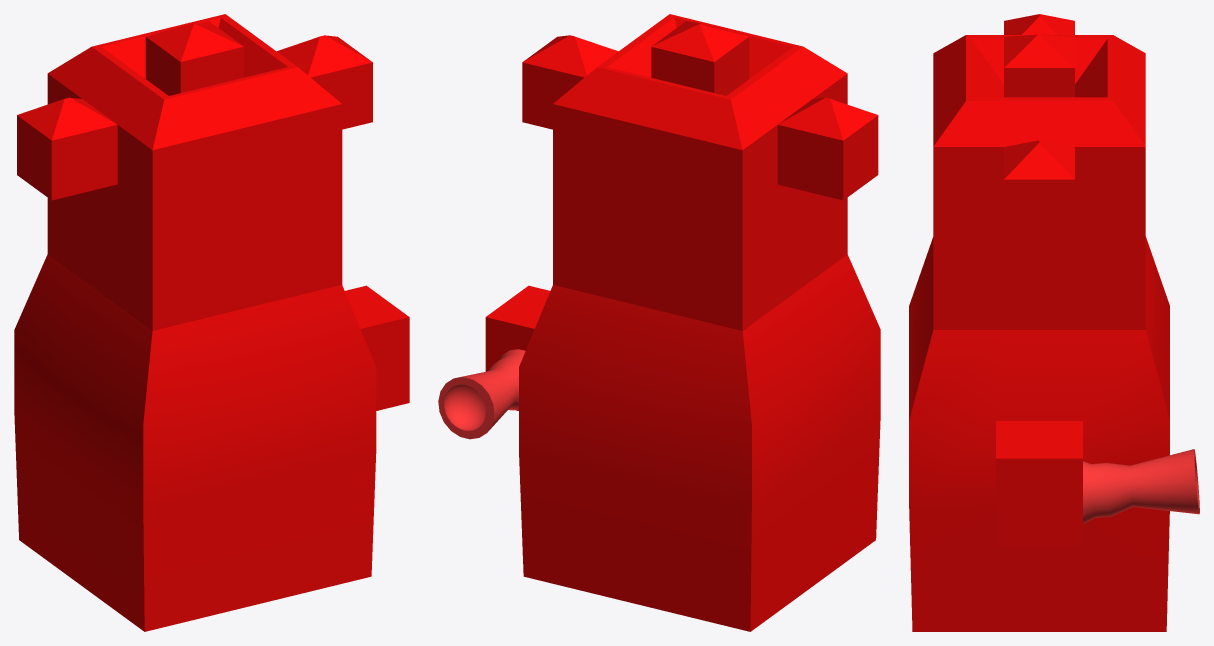
File: Robot.fbx
The picture shows the model from 3 angles, left to right: view 1: azimuth 30°, elevation 25°; view 2: azimuth 150°, elevation 25°; view 3: azimuth 270°, elevation 25°; orthographic projection.
Visible parts, largest first — view 1: Box001; view 2: Box001, object 2; view 3: Box001, object 2.
Boxes of the visible parts, bbox=[...] form: Box001: bbox=[14, 14, 409, 631]; Box001: bbox=[485, 14, 880, 631]; object 2: bbox=[438, 349, 525, 439]; Box001: bbox=[909, 14, 1169, 631]; object 2: bbox=[1083, 449, 1199, 524].
Bounding box in the file's own units: 73.09 × 106 × 51.39.
